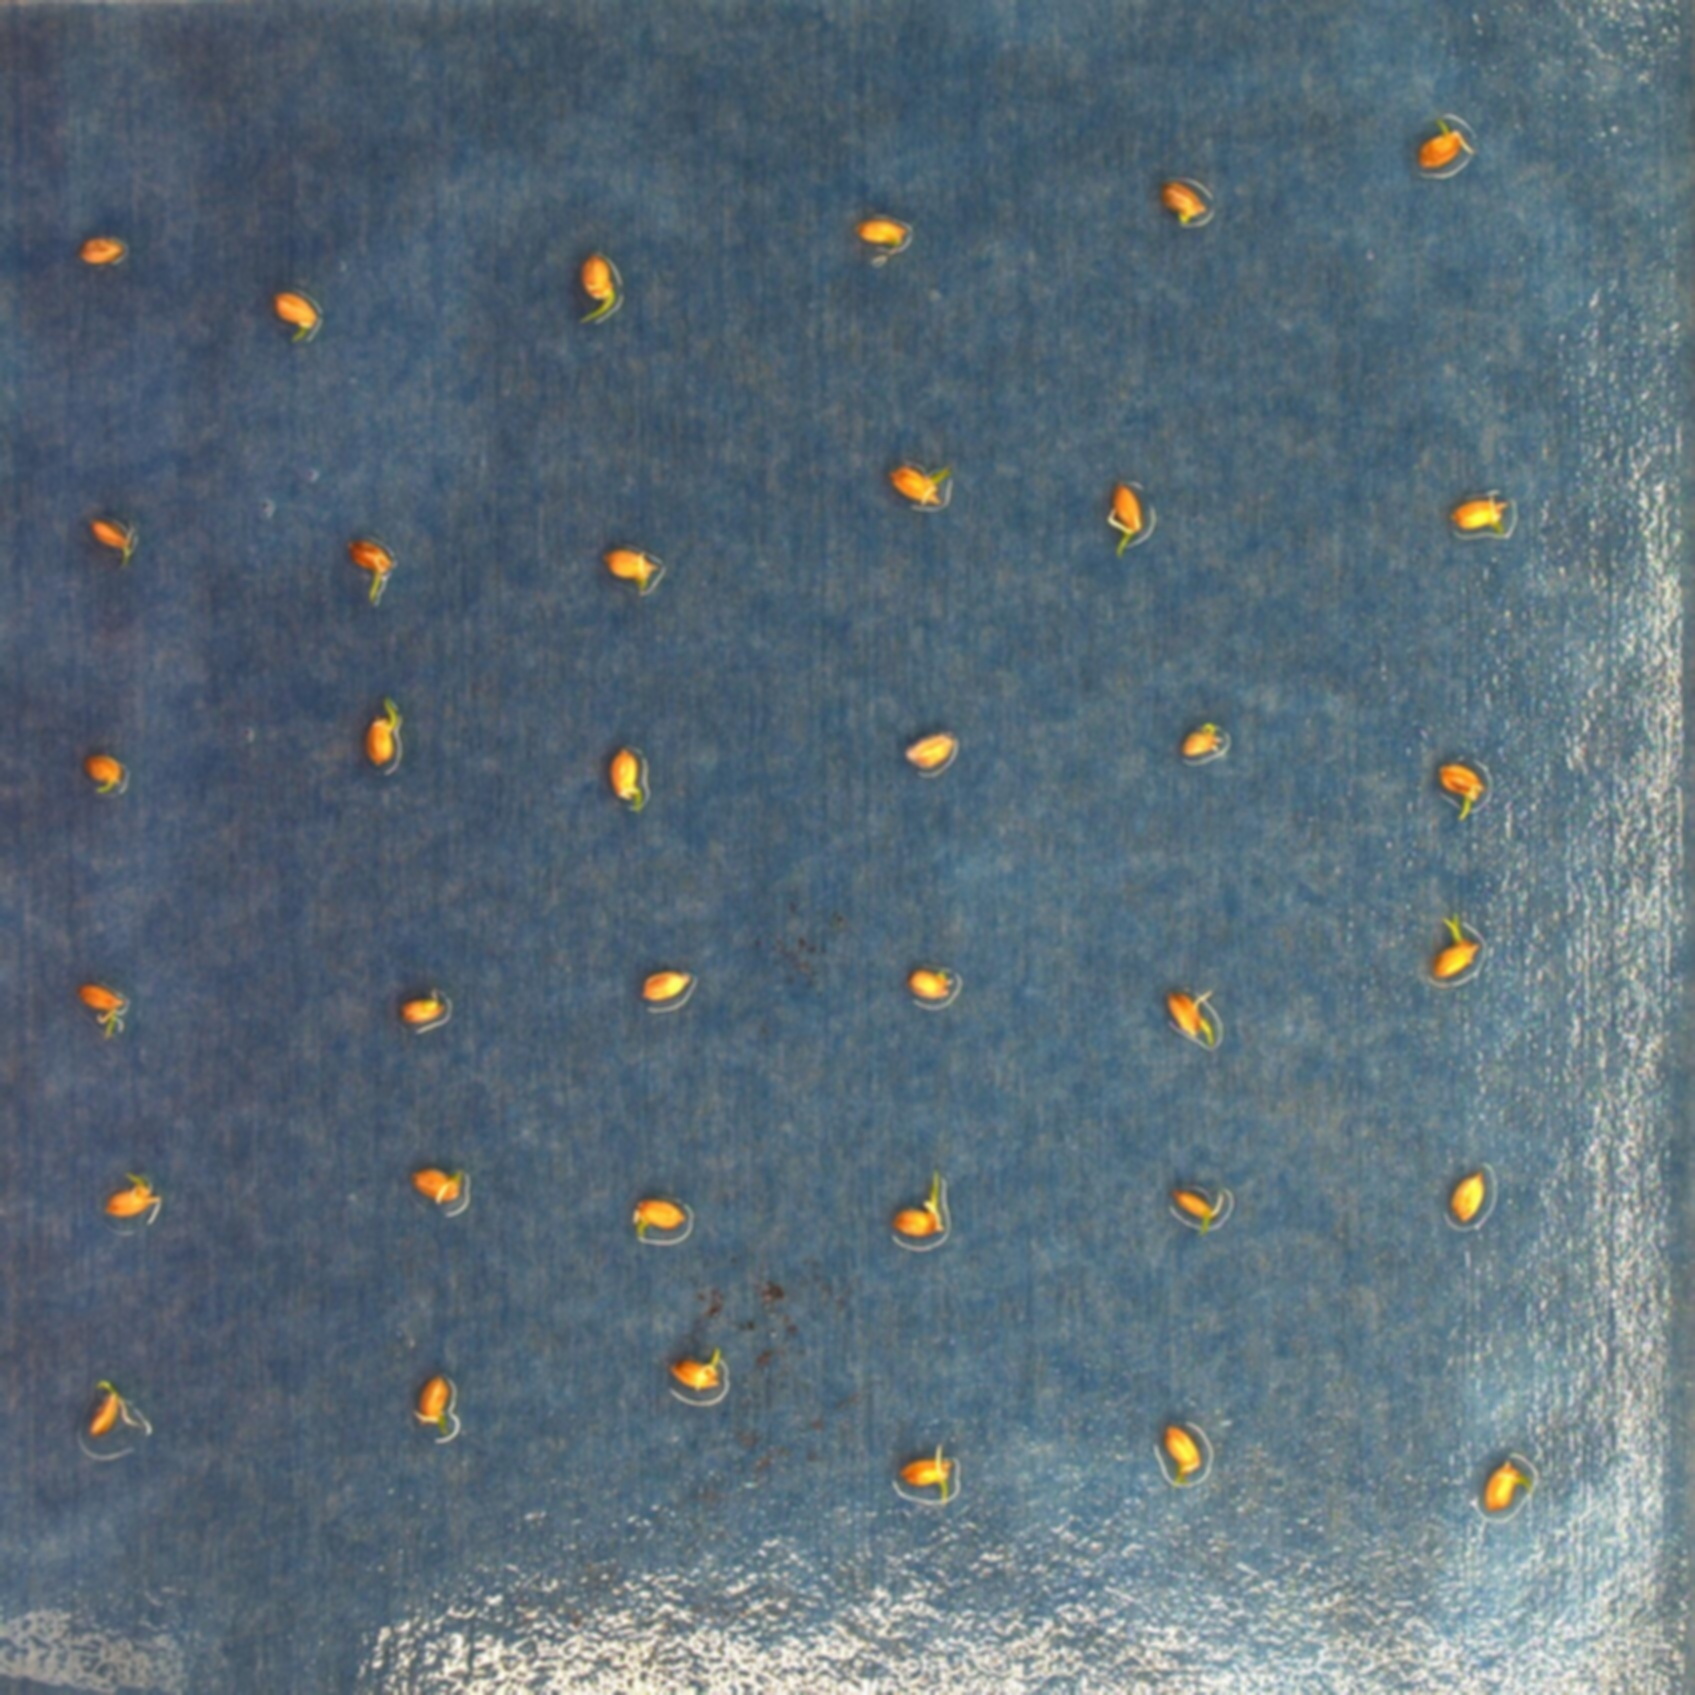not sprout: (82, 1377, 144, 1437), (98, 1172, 163, 1226), (885, 459, 955, 508), (1416, 113, 1478, 166), (1163, 986, 1214, 1048), (666, 1340, 725, 1391), (261, 289, 314, 343), (1479, 1461, 1534, 1513), (601, 549, 661, 594), (408, 1377, 453, 1437), (630, 1194, 685, 1243), (1163, 1423, 1198, 1496), (1451, 490, 1512, 532), (607, 747, 644, 813), (90, 518, 135, 570), (1161, 179, 1205, 230), (900, 734, 955, 771), (414, 1167, 467, 1205), (1447, 1170, 1487, 1218), (908, 964, 958, 1001), (394, 986, 444, 1021), (1183, 719, 1223, 757), (75, 233, 124, 262), (636, 972, 692, 997)
sprout: (889, 1172, 945, 1242), (1161, 1184, 1226, 1239), (903, 1434, 950, 1506), (349, 539, 399, 602), (1434, 913, 1478, 983), (1433, 761, 1482, 820), (1101, 481, 1139, 554), (363, 698, 404, 765), (577, 255, 615, 324), (79, 986, 127, 1034), (857, 220, 917, 255), (81, 754, 123, 795)
